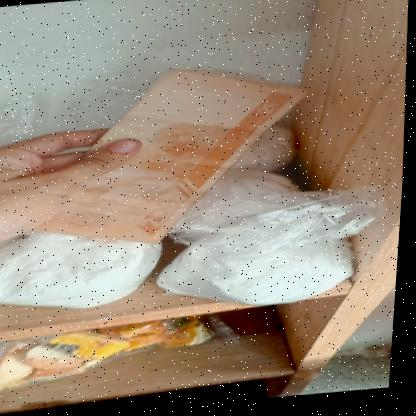twenty-back-vef: (23, 61, 319, 256)
